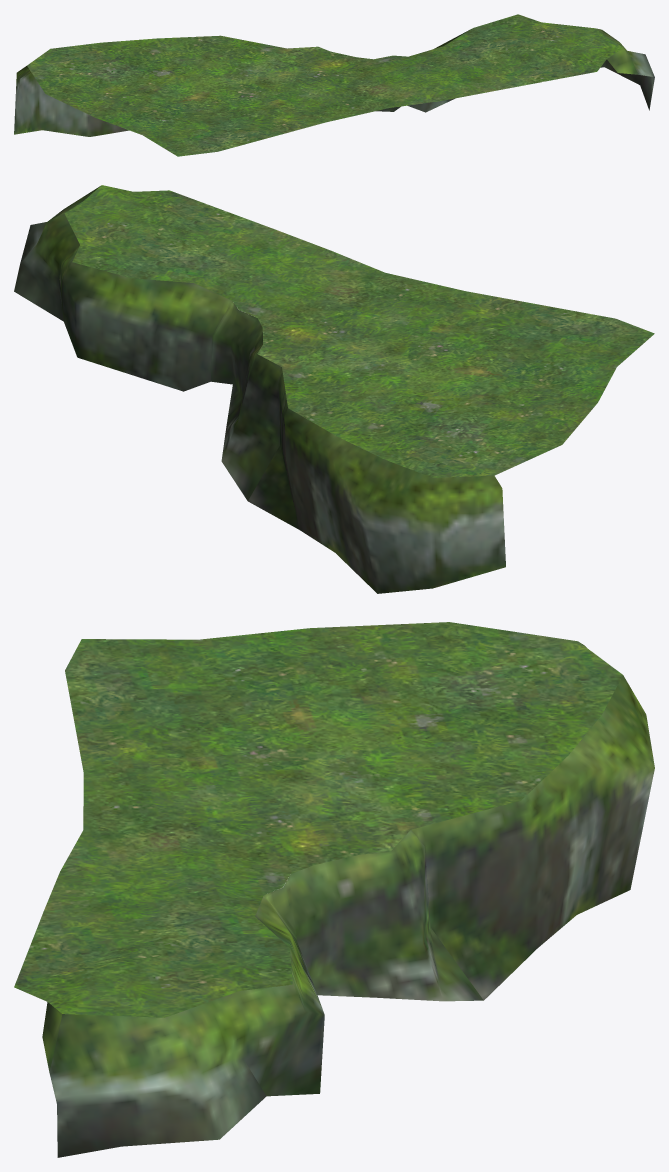
Rendered from S_Rock_Green058_A1.FBX.
3 renders of one model, top to bottom at view 1: azimuth 30°, elevation 25°; view 2: azimuth 150°, elevation 25°; view 3: azimuth 270°, elevation 25°, orthographic. The views are drawn at different scales.
Parts seen in each view (by area): view 1: S_Rock_Green058_A1_2, S_Rock_Green058_A1_1; view 2: S_Rock_Green058_A1_2, S_Rock_Green058_A1_1; view 3: S_Rock_Green058_A1_2, S_Rock_Green058_A1_1.
Boxes of the visible parts, x1,y1,x2,y2 form: S_Rock_Green058_A1_2: (27,14,622,156); S_Rock_Green058_A1_1: (14,28,654,136); S_Rock_Green058_A1_2: (64,185,654,477); S_Rock_Green058_A1_1: (14,186,505,593); S_Rock_Green058_A1_2: (14,622,622,1017); S_Rock_Green058_A1_1: (42,643,654,1157).
Bounding box in the file's own units: 1856 × 397 × 1130.
